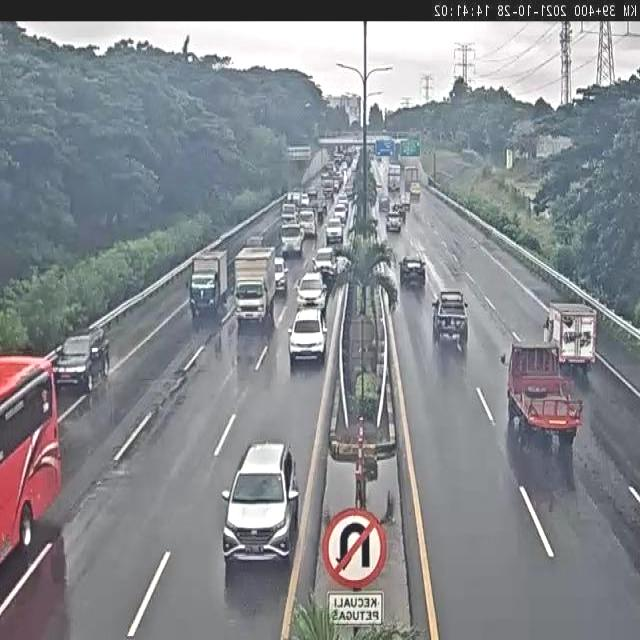Bus: (0, 351, 66, 567)
Car: (222, 440, 300, 564), (53, 328, 113, 395), (288, 306, 328, 366), (296, 270, 326, 308), (399, 255, 427, 288), (313, 246, 338, 282), (324, 214, 344, 245), (334, 199, 348, 224), (386, 212, 402, 233)
Truck: (505, 341, 583, 446), (540, 298, 598, 378), (234, 244, 279, 328), (188, 248, 230, 324), (432, 290, 468, 350), (279, 222, 305, 258), (298, 208, 317, 240), (280, 202, 298, 225)
